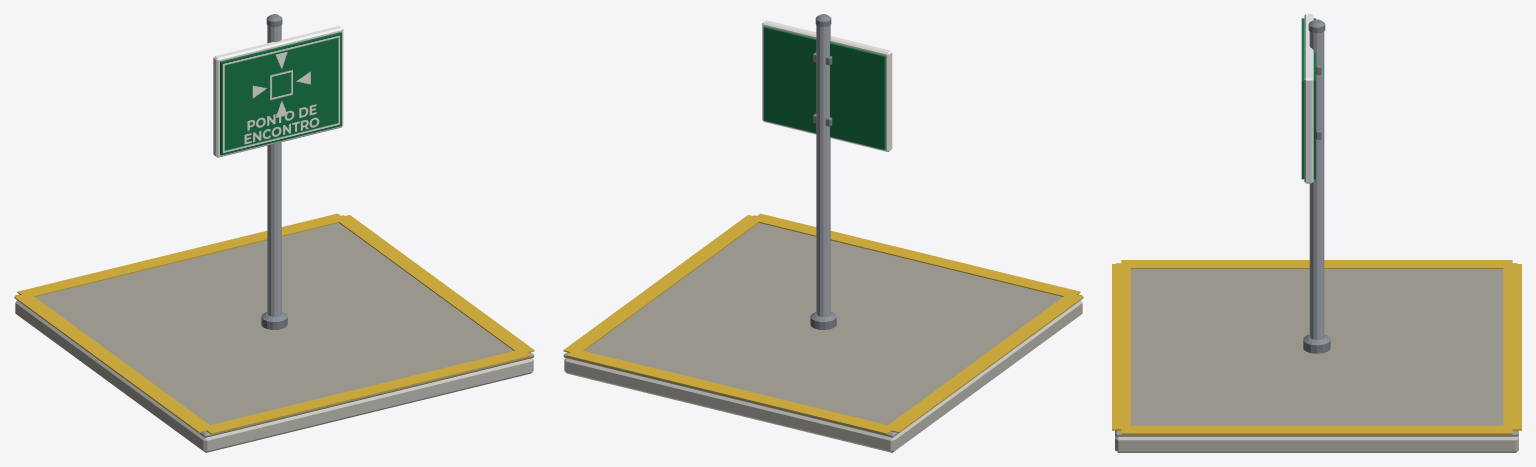
The model's file is Plataforma.fbx.
3 renders of one model, left to right at view 1: azimuth 30°, elevation 25°; view 2: azimuth 150°, elevation 25°; view 3: azimuth 270°, elevation 25°, orthographic. The views are drawn at different scales.
Parts seen in each view (by area): view 1: Plataforma, Placa, Poste; view 2: Plataforma, Placa, Poste; view 3: Plataforma, Poste, Placa.
Boxes of the visible parts, x1=… form: Plataforma: x1=14, y1=213, x2=534, y2=452; Placa: x1=213, y1=26, x2=343, y2=157; Poste: x1=261, y1=14, x2=287, y2=329; Plataforma: x1=563, y1=213, x2=1083, y2=452; Placa: x1=762, y1=20, x2=892, y2=151; Poste: x1=810, y1=14, x2=836, y2=329; Plataforma: x1=1112, y1=260, x2=1521, y2=452; Poste: x1=1303, y1=19, x2=1330, y2=353; Placa: x1=1301, y1=14, x2=1321, y2=183.
Bounding box in the file's own units: 2.64 × 2.47 × 2.64.
Materials: 1 (1 with a texture image).
